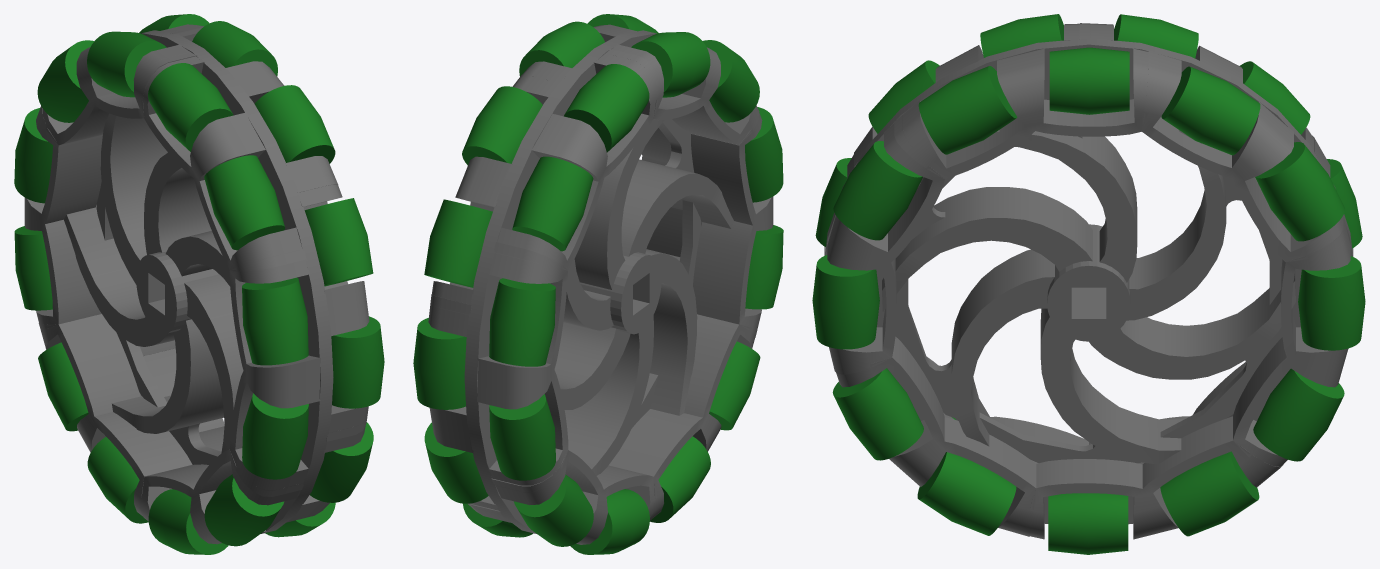
Rendered from 4_inch_omni.dae.
The picture shows the model from 3 angles, left to right: view 1: azimuth 30°, elevation 25°; view 2: azimuth 150°, elevation 25°; view 3: azimuth 270°, elevation 25°; orthographic projection. The views are drawn at different scales.
Parts seen in each view (by area): view 1: SpokeExtender.002; view 2: SpokeExtender.002; view 3: SpokeExtender.002.
Part boxes in pixels (bbox=[...]): SpokeExtender.002: bbox=[14, 14, 384, 554]; SpokeExtender.002: bbox=[413, 14, 783, 554]; SpokeExtender.002: bbox=[812, 14, 1365, 554].
Size of the model in its own units: 0.0294 by 0.1059 by 0.1059.
